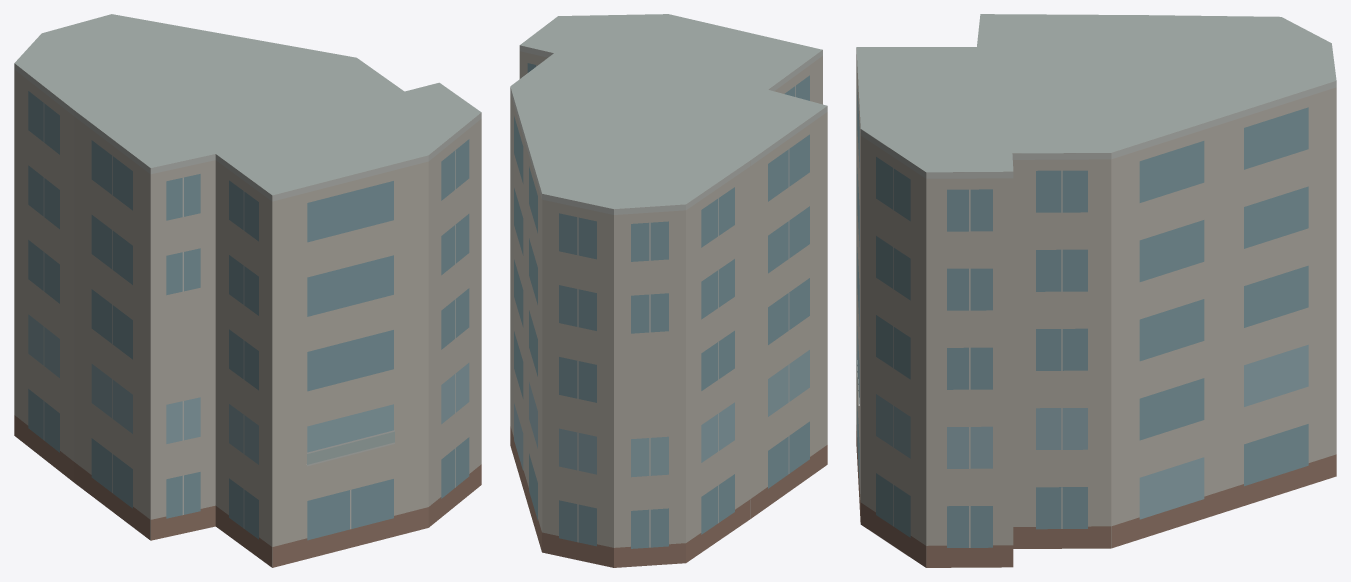
Rendered from survey-upis-32650002.glb.
3 views of the same model, side by side, from view 1: azimuth 30°, elevation 25°; view 2: azimuth 150°, elevation 25°; view 3: azimuth 270°, elevation 25° (orthographic). The views are drawn at different scales.
Parts seen in each view (by area): view 1: survey-upis-32650002.tmp; view 2: survey-upis-32650002.tmp; view 3: survey-upis-32650002.tmp.
Part boxes in pixels (x1,y1,x2,y2): survey-upis-32650002.tmp: (14, 14, 481, 567); survey-upis-32650002.tmp: (510, 14, 827, 567); survey-upis-32650002.tmp: (856, 14, 1336, 567).
Size of the model in its own units: 12.71 by 14.8 by 16.29.
